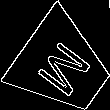M_SE: (31, 33, 96, 100)
